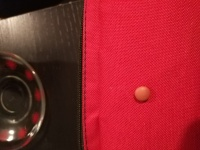Dolorex: (133, 85, 152, 104)
